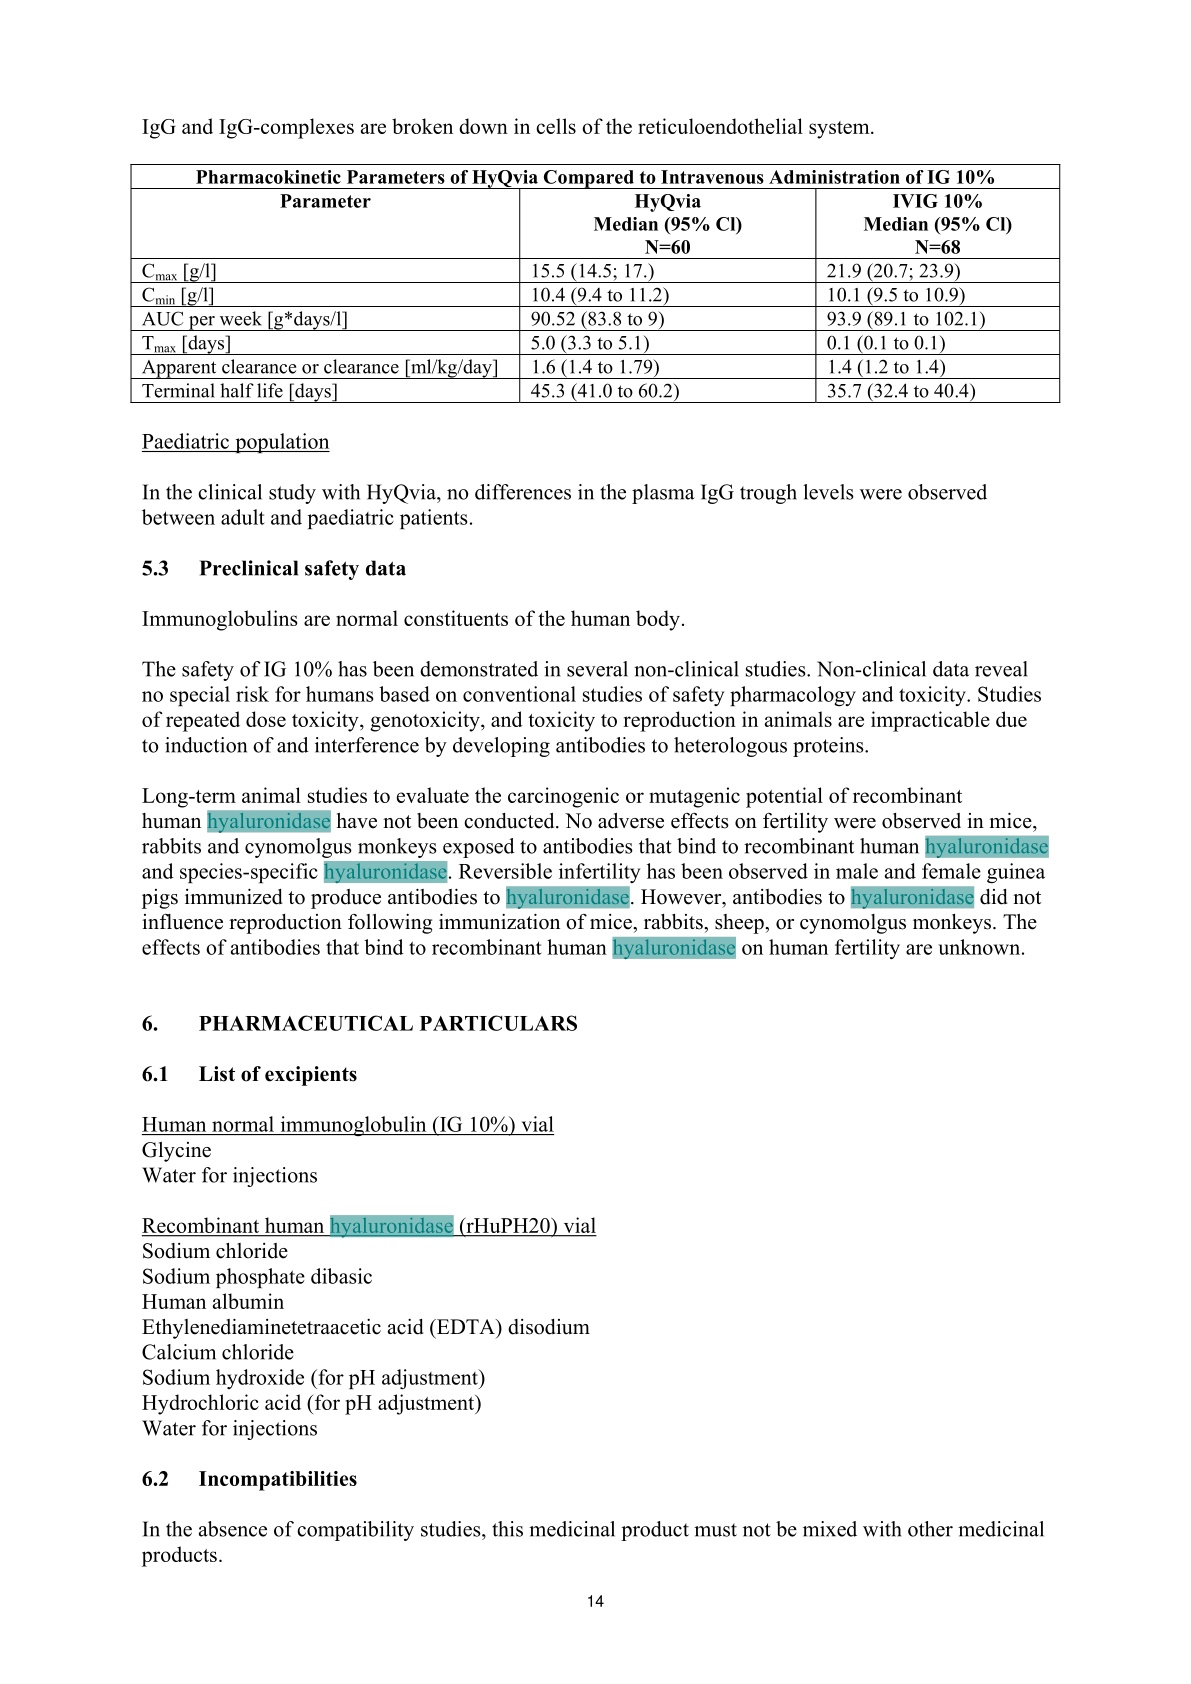merged_cells: (130, 162, 1061, 403)
